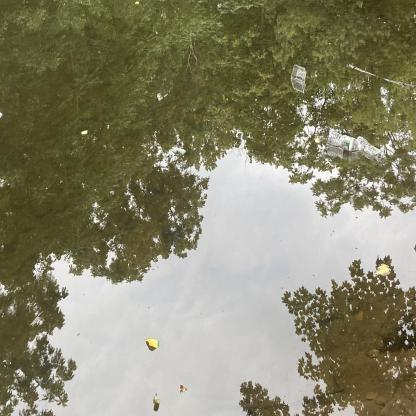trash: (350, 133, 390, 170), (324, 122, 365, 155), (287, 58, 314, 82)
